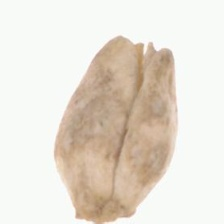L1: (111, 32, 170, 80), (69, 199, 139, 223)
L2: (53, 35, 179, 224)
